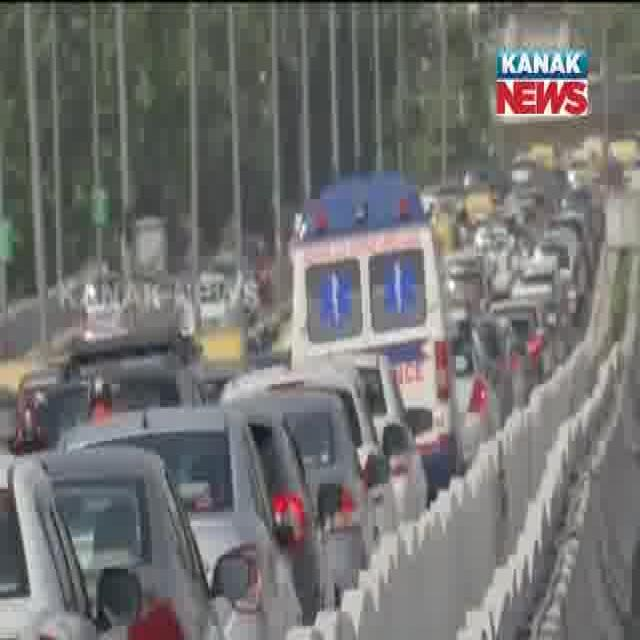ambulance: (288, 164, 447, 368)
